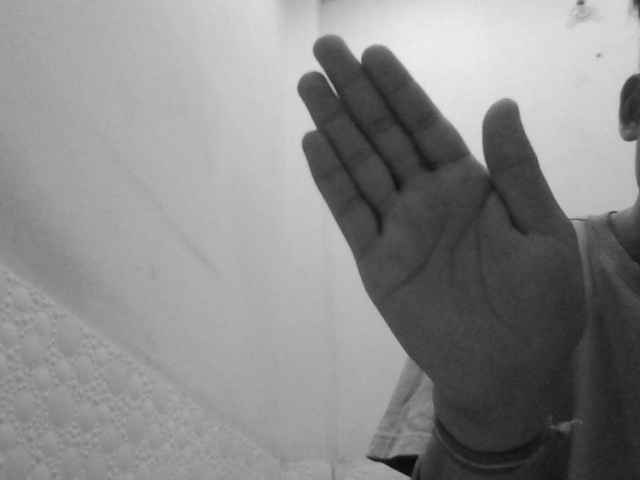Hello: (295, 31, 591, 413)
